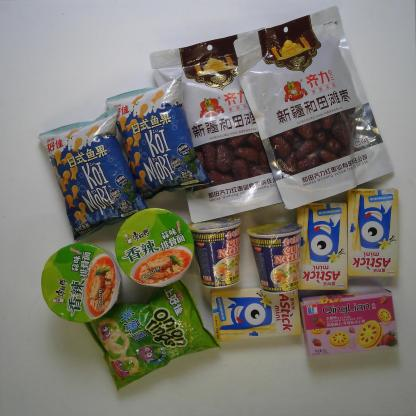Dessert: (299, 288, 399, 357), (210, 286, 302, 342), (345, 188, 399, 278), (295, 202, 348, 290)
Dried Food: (233, 6, 395, 210), (148, 27, 284, 224)
Instant Noodles: (40, 242, 123, 324), (115, 207, 195, 288), (246, 222, 303, 294), (187, 216, 242, 289)
Puffed Food: (84, 279, 223, 392), (37, 106, 149, 242), (105, 72, 214, 203)
